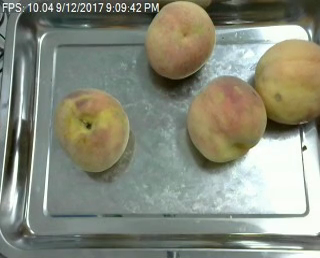Peach: (185, 76, 267, 162), (54, 88, 130, 172), (253, 38, 319, 125), (145, 0, 216, 79)
